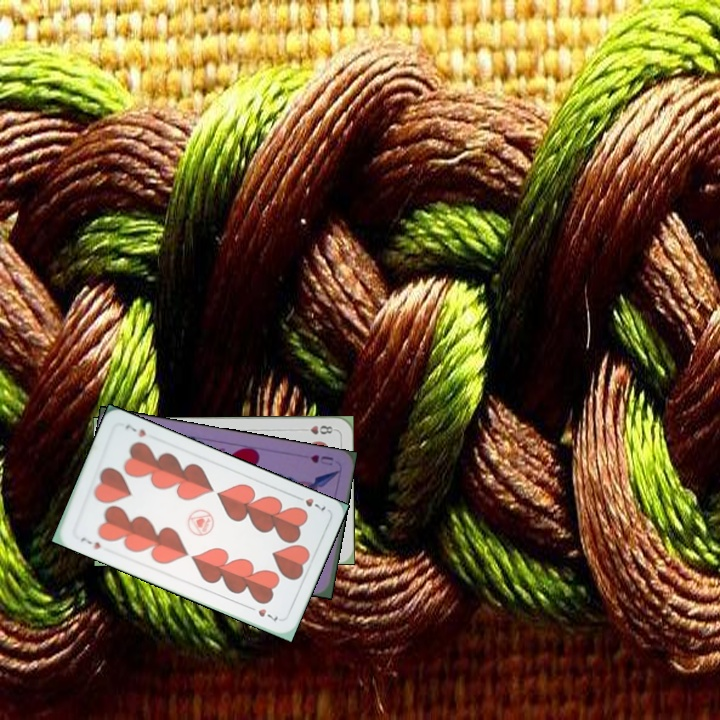H7: (291, 491, 328, 513), (76, 532, 103, 552)
H8: (297, 422, 337, 437)
HU: (306, 450, 336, 468)
